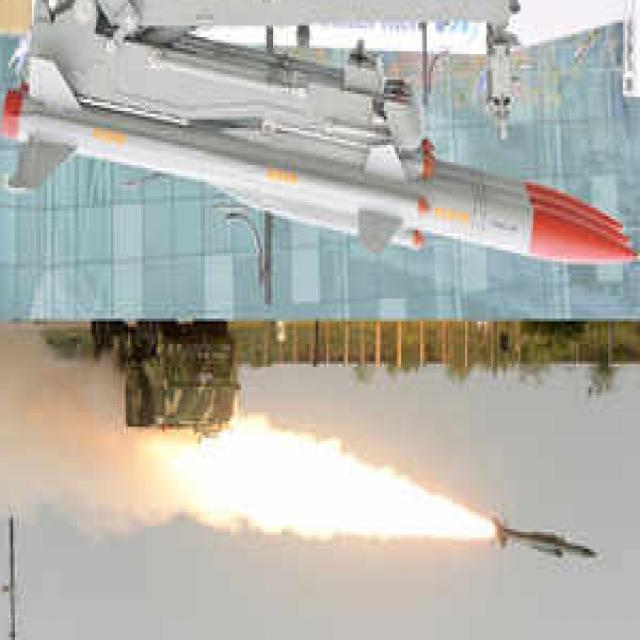missile: (11, 9, 625, 282), (491, 522, 604, 564)
